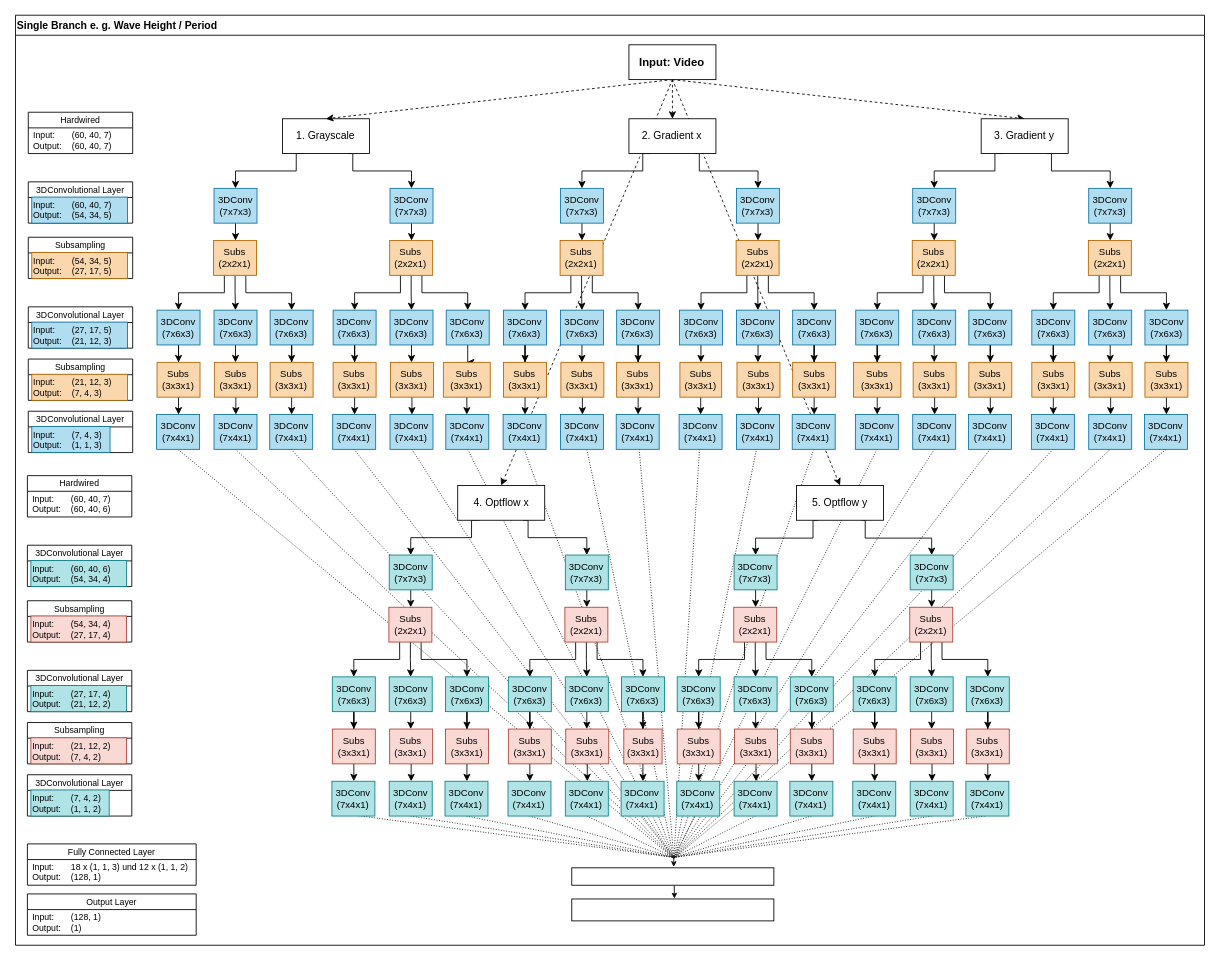
The diagram is 1220 pixels wide and 960 high, and some of its shapes have lost their labels. Here are the shapes that lost their labels. From the top down, the centre of each, then its label:
point 672,876: FC
point 672,909: Output: Wave Height / Period
